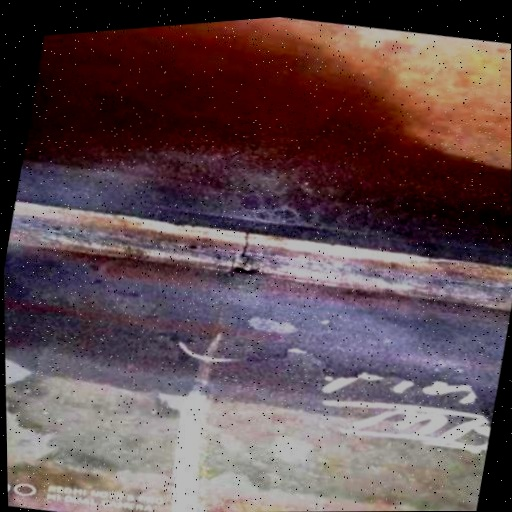crack: (235, 228, 258, 264)
